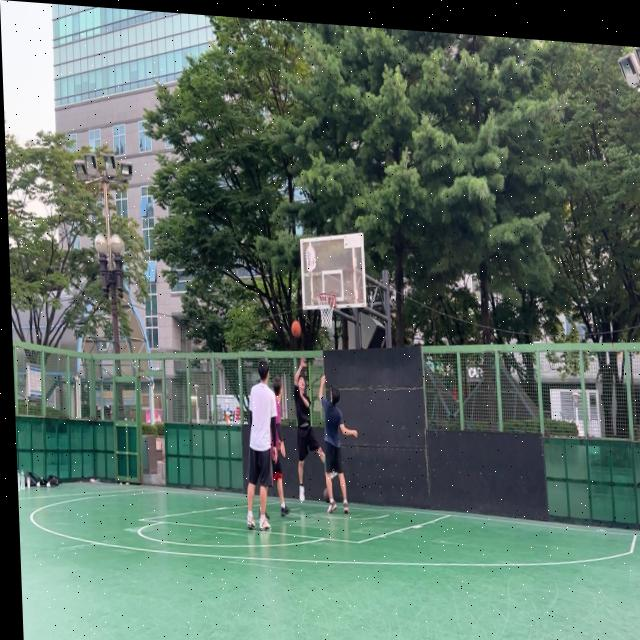basketball: (291, 320, 301, 338), (324, 487, 330, 503)
hoop: (316, 291, 338, 329)
